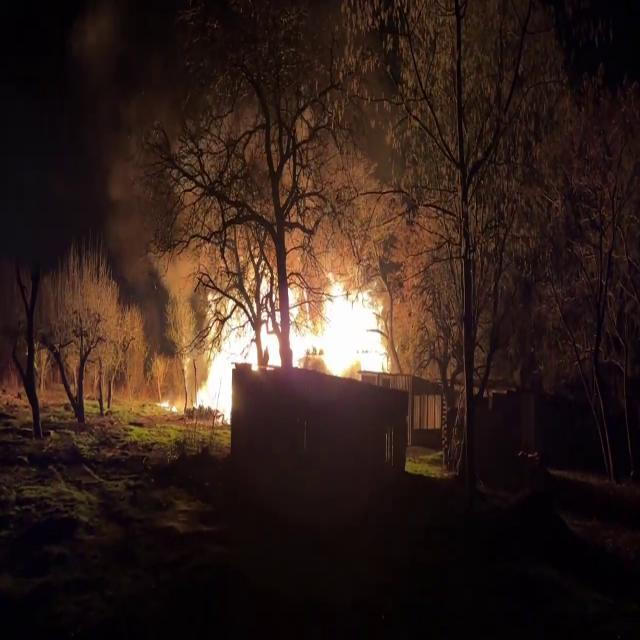Fire: (202, 262, 410, 422)
Smoke: (281, 90, 457, 282), (114, 112, 263, 323)
